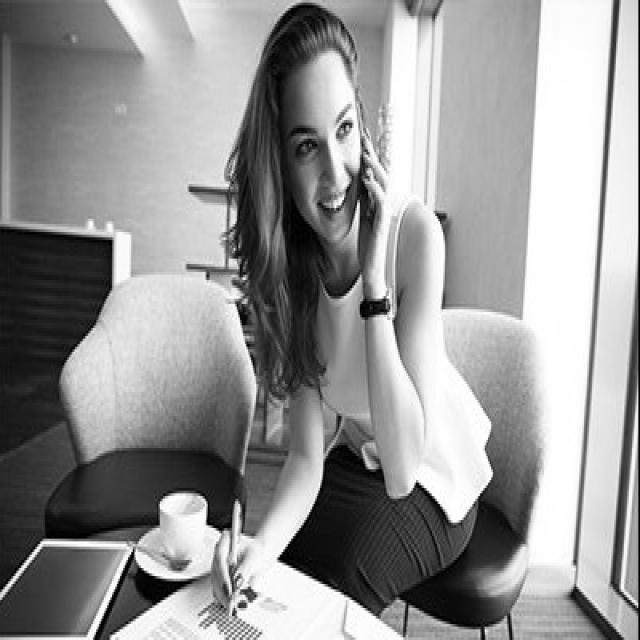phone: (330, 83, 418, 288)
